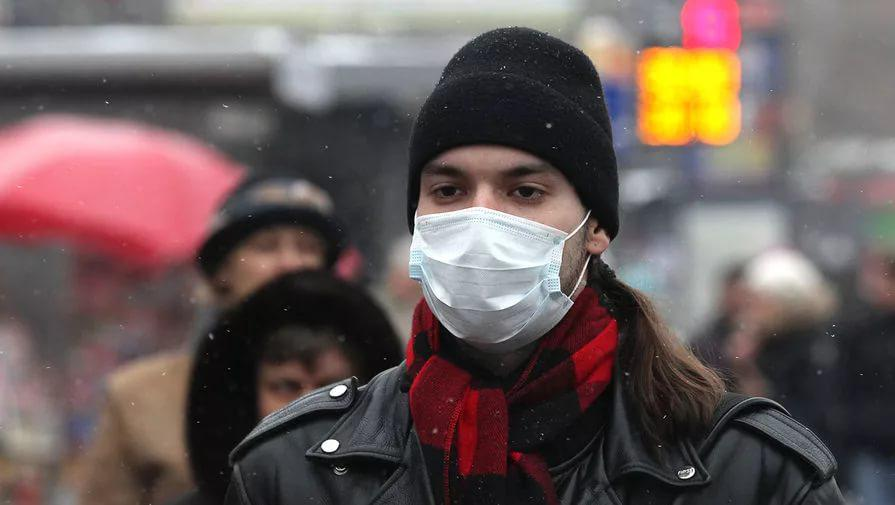mask: (404, 125, 591, 343)
